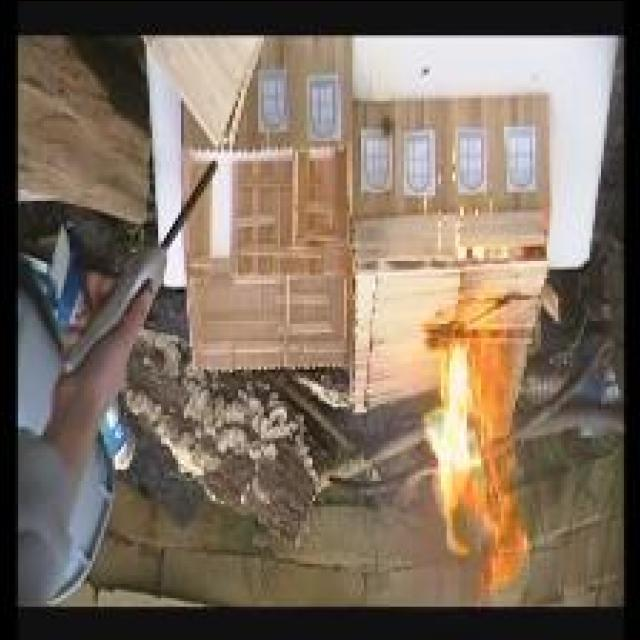Fire: (422, 300, 530, 603)
